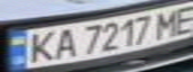1: (118, 16, 139, 47)
2: (100, 19, 124, 52)
7: (78, 21, 103, 56), (130, 12, 157, 44)
A: (48, 26, 81, 60)
E: (169, 2, 193, 35)
K: (21, 28, 60, 64)
M: (151, 7, 187, 38)
